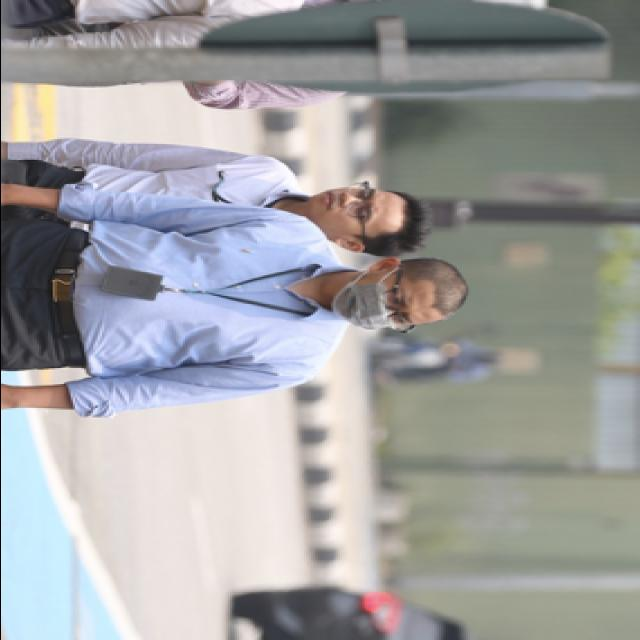with_mask: (330, 274, 413, 332)
without_mask: (308, 188, 382, 238)
